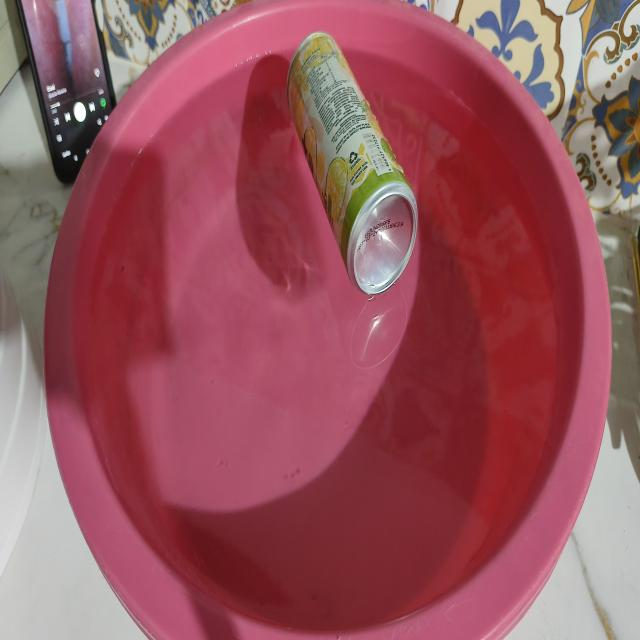Aluminum Can: (287, 32, 418, 295)
